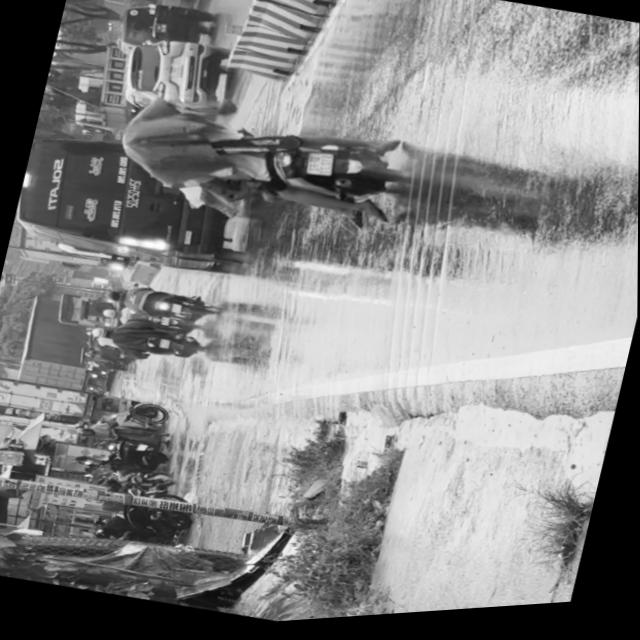licenseplate: (105, 79, 412, 258)
nohelmet: (303, 153, 335, 183)
